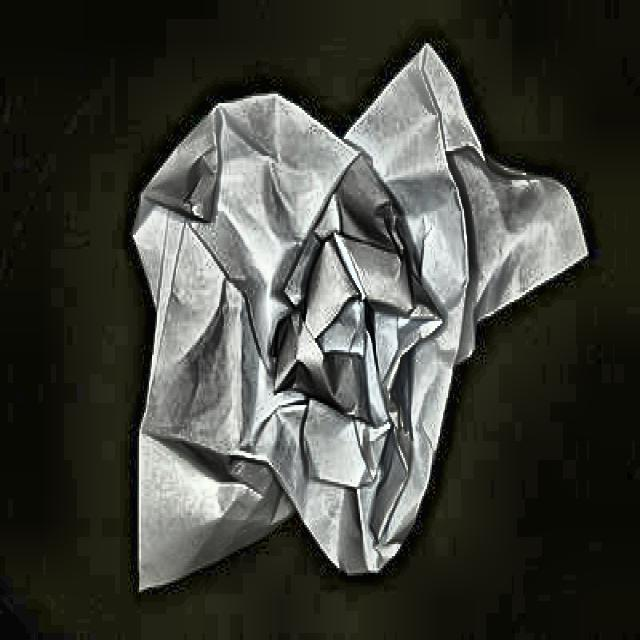Paper: (101, 34, 596, 621)
